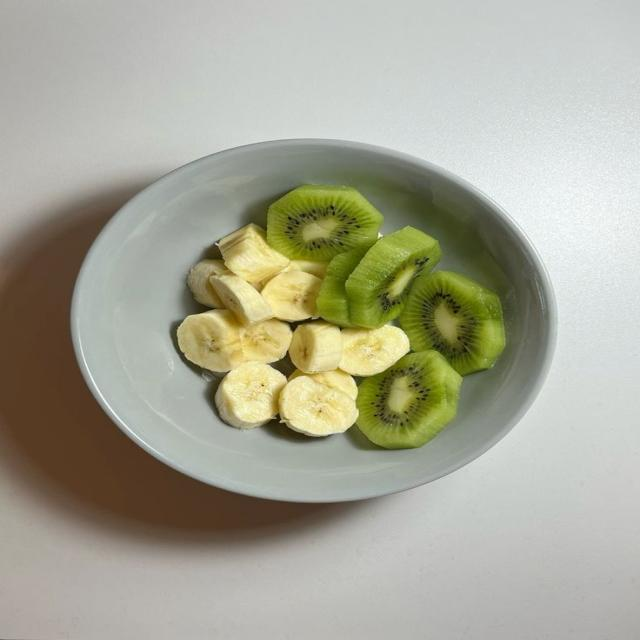banana slice: (215, 363, 286, 429), (280, 376, 358, 436), (219, 224, 290, 282), (177, 310, 244, 371), (340, 325, 409, 376), (210, 275, 273, 324), (262, 271, 321, 321), (289, 321, 342, 373), (241, 320, 292, 362), (288, 369, 358, 399), (187, 260, 230, 307), (262, 260, 327, 285), (289, 260, 327, 279), (249, 282, 263, 291)
kiwi: (399, 270, 504, 375), (357, 350, 461, 448), (346, 226, 441, 328), (267, 185, 383, 260), (317, 249, 366, 326)
